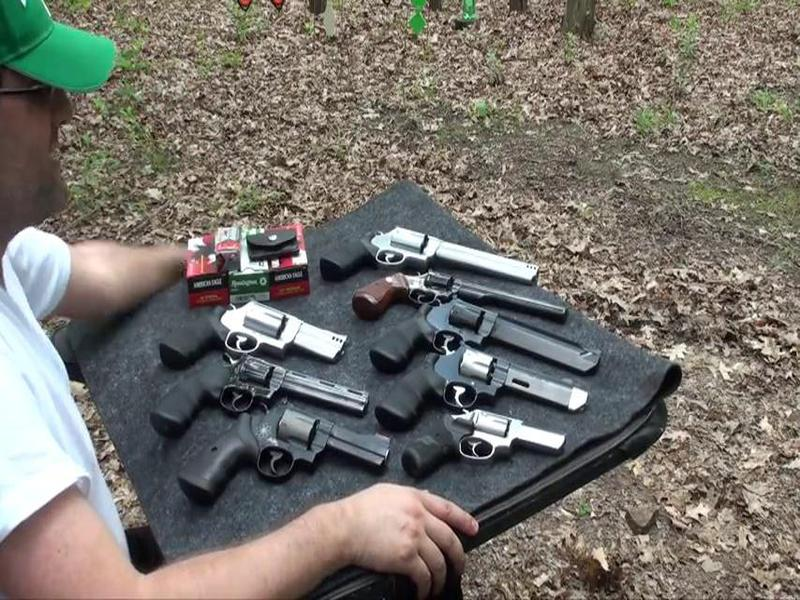Revolver: (165, 403, 401, 507)
